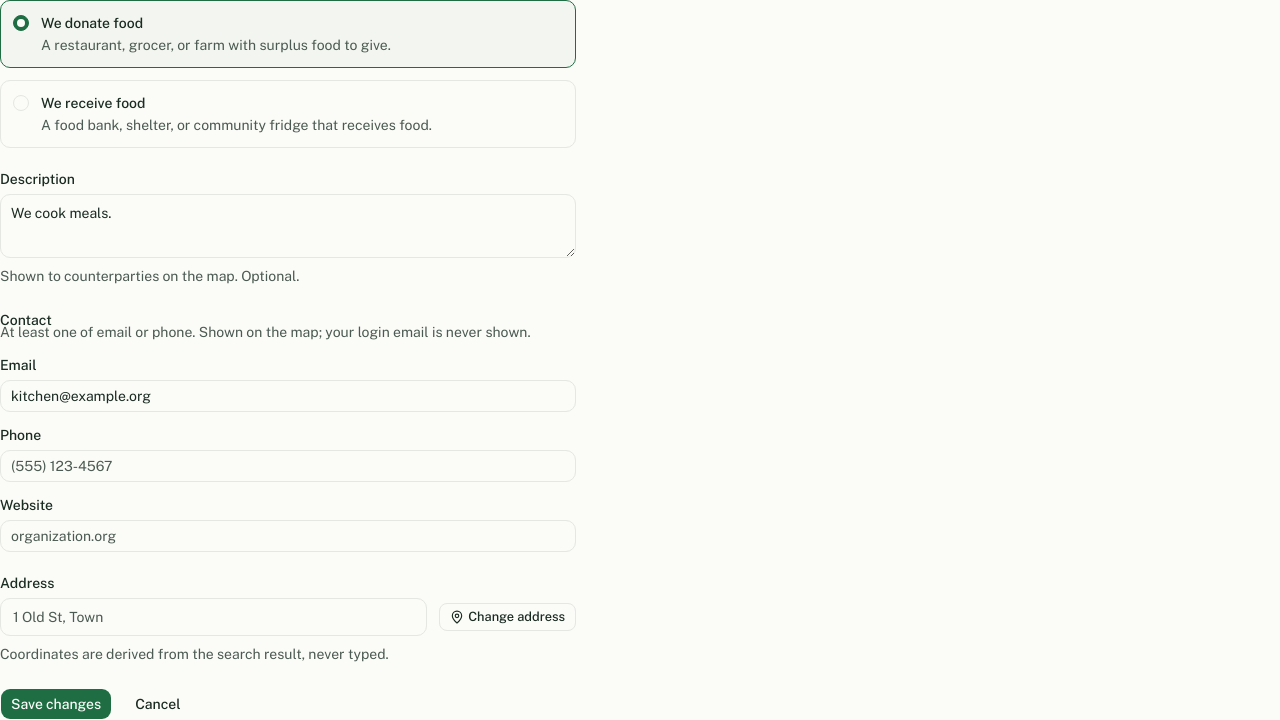
it: OrganizationForm — changing the address › does not submit the organization form when searching
(page scrolled)
Click the button "Change address" at point(508, 617), box [439,603,576,631]
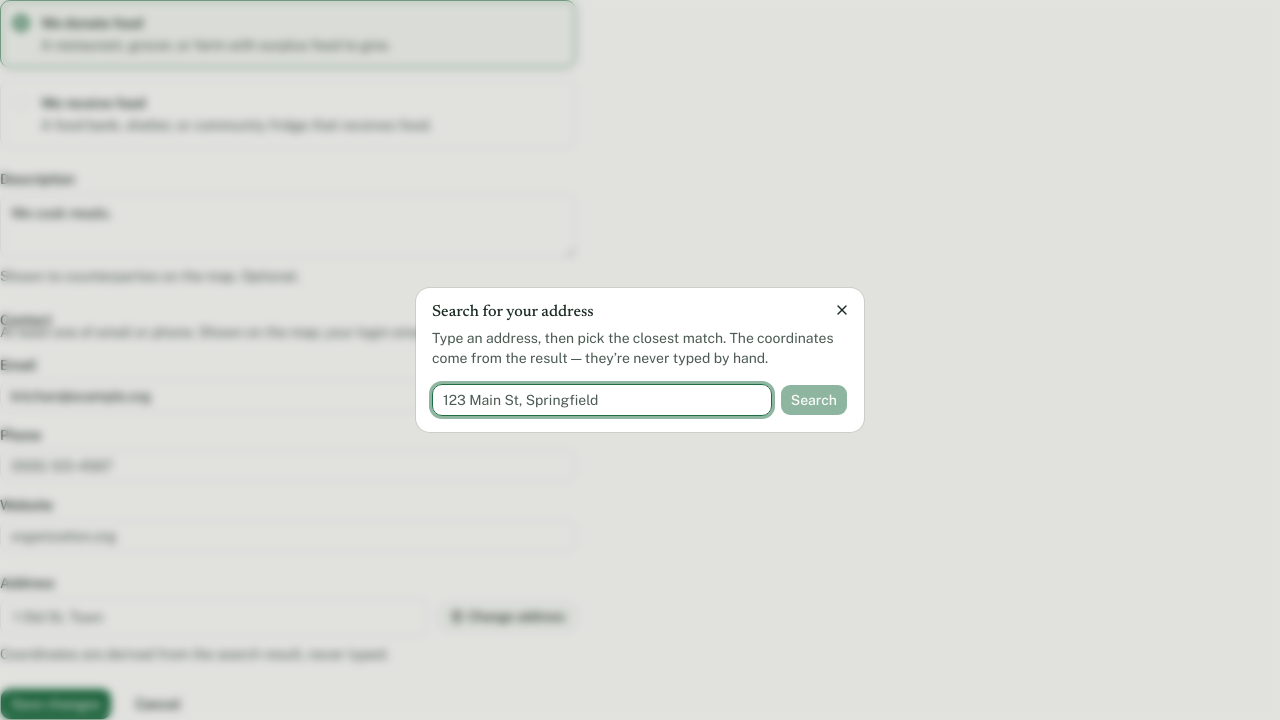
Type "233 S Wacker" into the field named "Address to search" at point(602, 400), box [432,384,772,416]
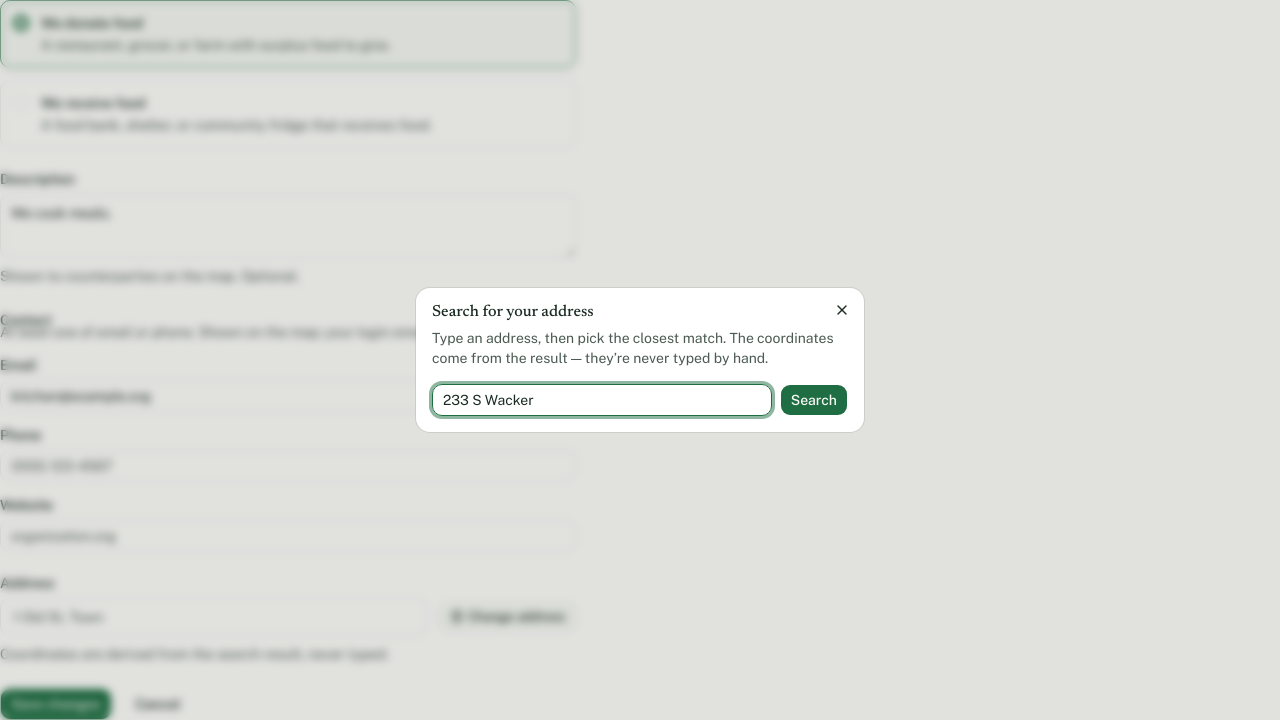
Click the button "Search" at point(814, 400), box [780,384,848,416]
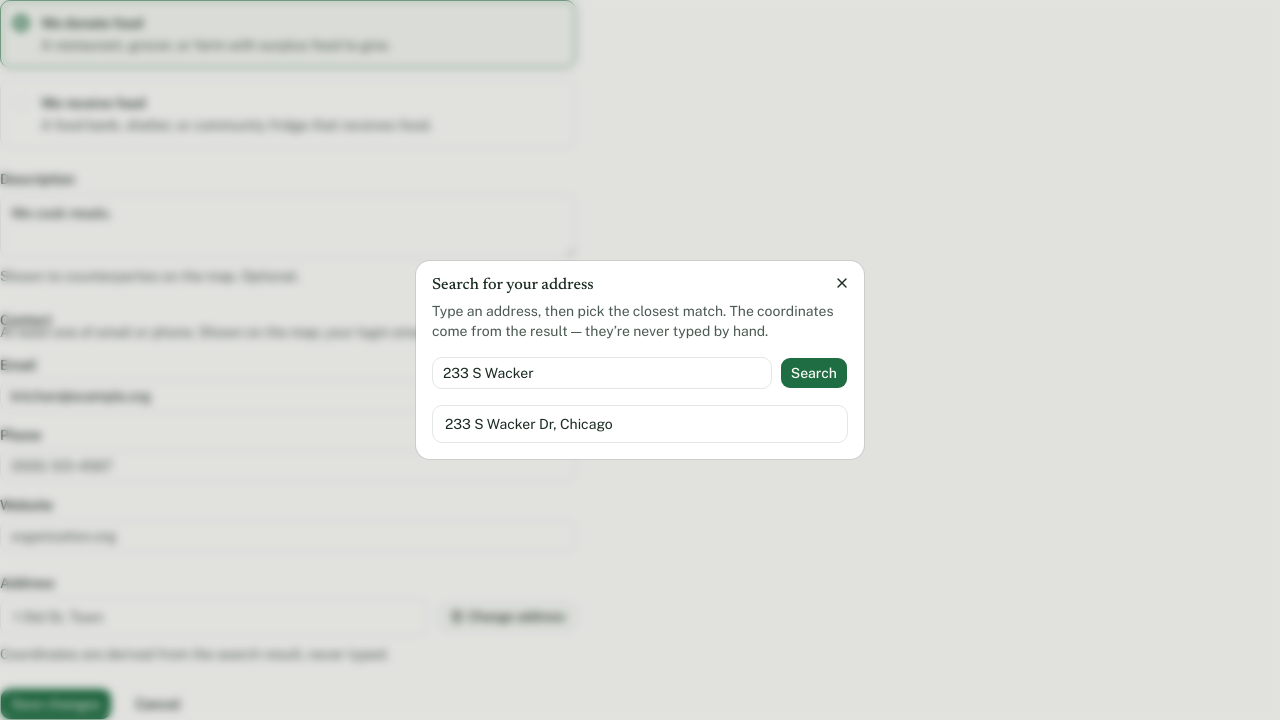
Expected: the button "233 S Wacker Dr, Chicago" is shown, [433,406,847,442]
